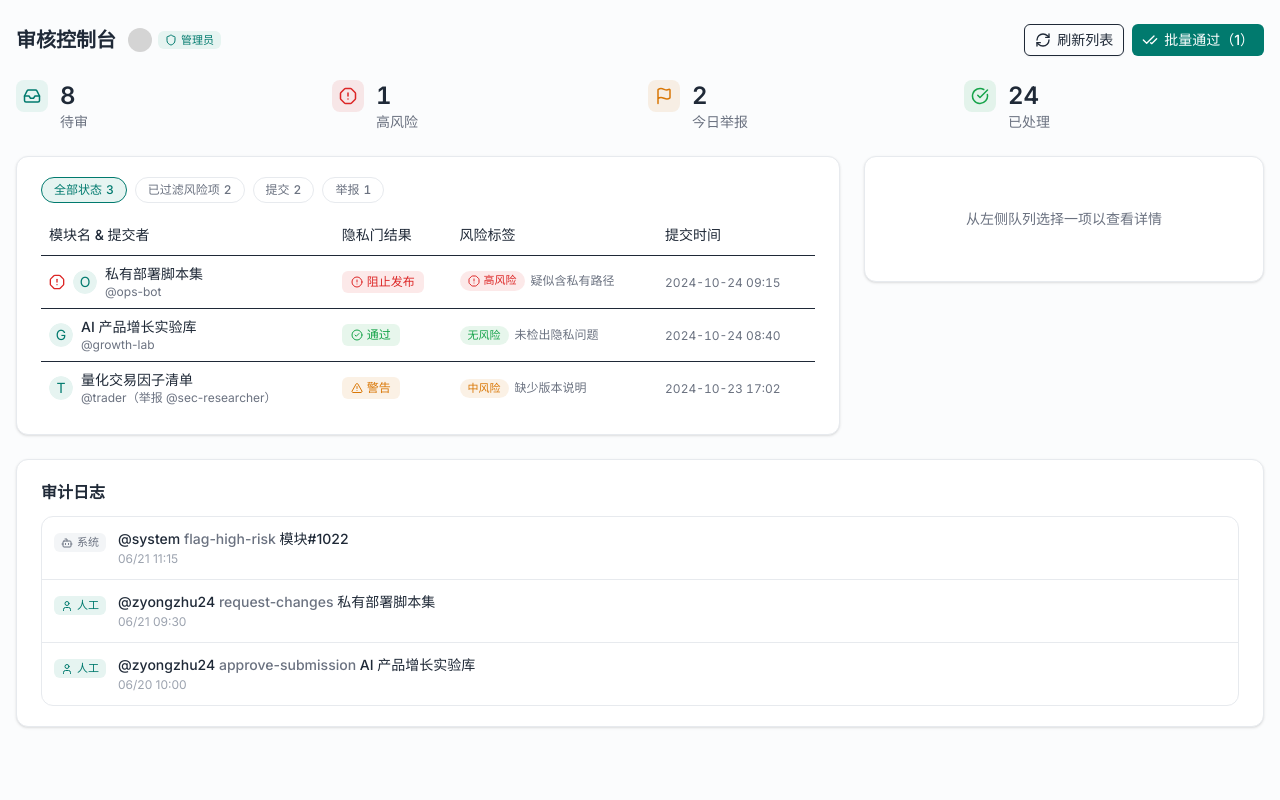
Test: AdminConsole（PAGE-080~085 集成） › 批量通过触发二次确认且仅作用于 pass 且无未决举报子集（INV-02/ASM-050）
Expected: the text "私有部署脚本集" is shown, [105, 264, 203, 284]
What coordinates should you click on to do the following:
click the button "批量通过（1）"
I would click on:
 (1198, 40)
Its box is [1132, 24, 1264, 56].
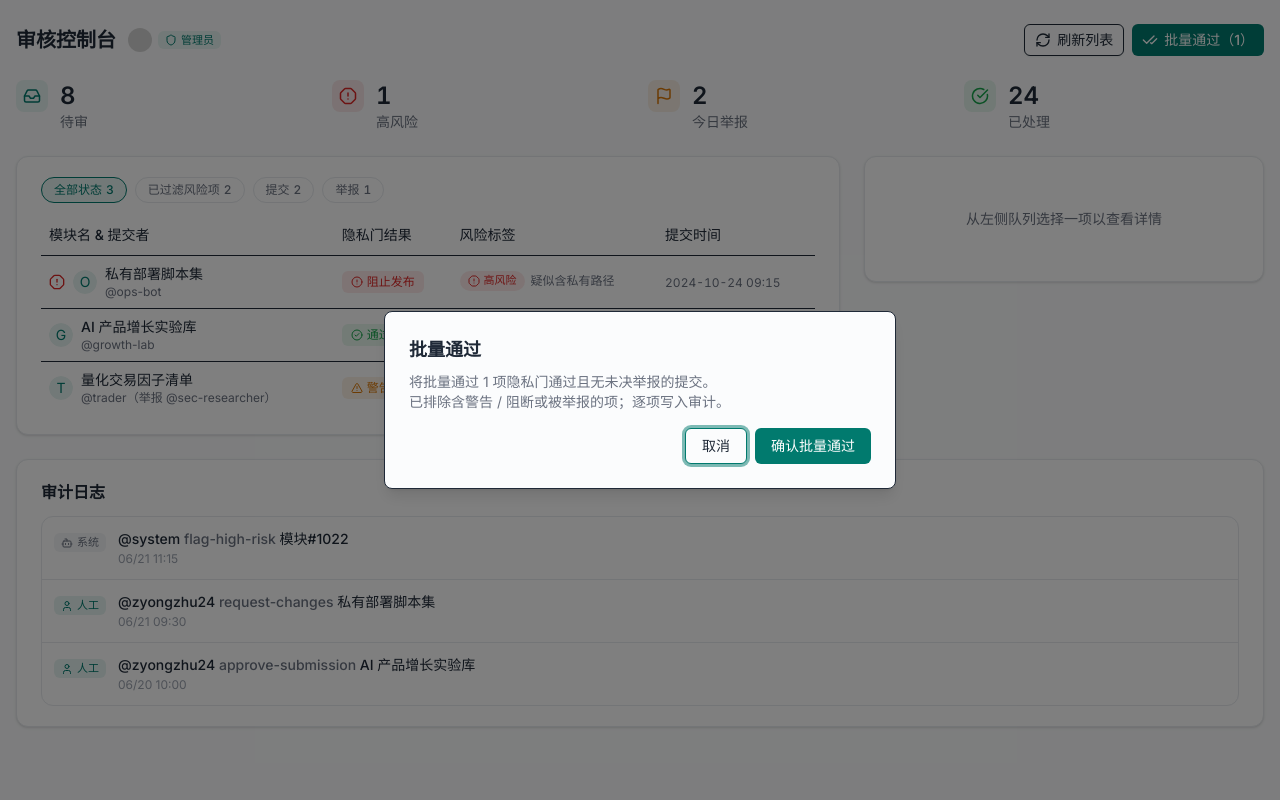
Expected: the heading "批量通过" is shown, [409, 339, 481, 360]
Expected: the text "将批量通过 1 项隐私门通过且无未决举报的提交。已排除含警告 / 阻断或被举报的项；逐项写入审计。" is shown, [409, 373, 730, 410]
